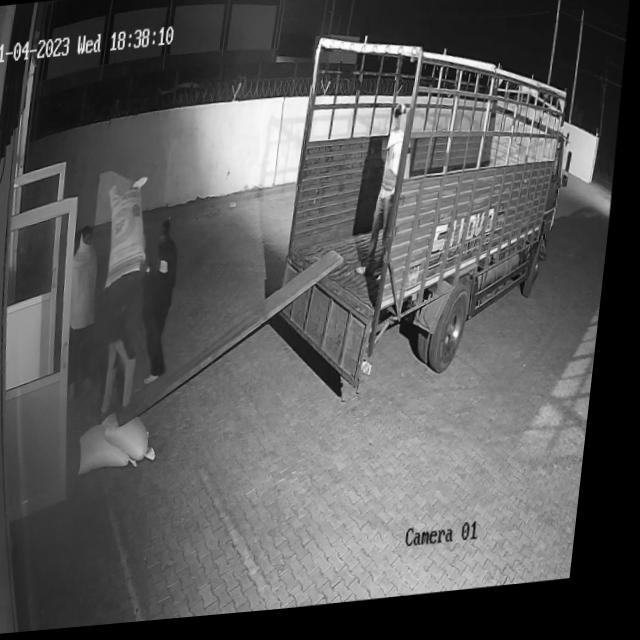sack: (106, 178, 160, 290), (107, 411, 170, 470), (86, 420, 151, 477)
